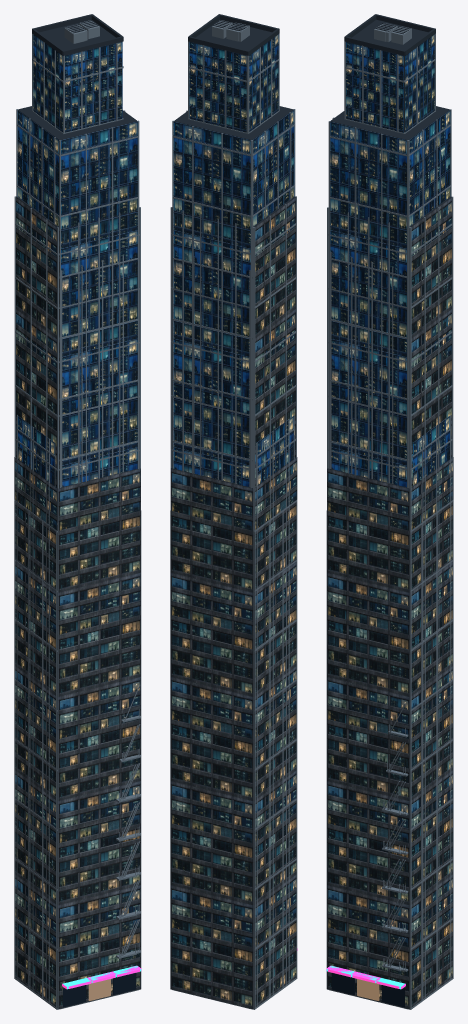
The model's file is architecture-kit.glb.
3 views of the same model, side by side, from view 1: azimuth 30°, elevation 25°; view 2: azimuth 150°, elevation 25°; view 3: azimuth 330°, elevation 25° (orthographic).
Parts seen in each view (by area): view 1: Facade_atlas_2 (×2), Facade_atlas_0 (×2), Brushed aluminum (×8), Roof membrane and mechanical equipment, Unlit recessed glazing, Warm occupied interiors; view 2: Facade_atlas_2 (×2), Facade_atlas_0 (×2), Brushed aluminum (×5), Roof membrane and mechanical equipment; view 3: Facade_atlas_2 (×2), Facade_atlas_0 (×2), Brushed aluminum (×8), Roof membrane and mechanical equipment, Unlit recessed glazing, Warm occupied interiors.
Boxes of the visible parts, x1=… form: Facade_atlas_2 (×2): x1=14, y1=197, x2=140, y2=1009; Facade_atlas_0 (×2): x1=17, y1=34, x2=137, y2=486; Brushed aluminum (×8): x1=14, y1=20, x2=141, y2=1009; Roof membrane and mechanical equipment: x1=18, y1=14, x2=137, y2=140; Unlit recessed glazing: x1=65, y1=973, x2=134, y2=1006; Warm occupied interiors: x1=89, y1=979, x2=110, y2=1000; Facade_atlas_2 (×2): x1=170, y1=197, x2=297, y2=1008; Facade_atlas_0 (×2): x1=173, y1=34, x2=294, y2=486; Brushed aluminum (×5): x1=170, y1=20, x2=297, y2=1009; Roof membrane and mechanical equipment: x1=174, y1=14, x2=293, y2=140; Facade_atlas_2 (×2): x1=327, y1=197, x2=453, y2=1009; Facade_atlas_0 (×2): x1=330, y1=34, x2=450, y2=487; Brushed aluminum (×8): x1=326, y1=23, x2=453, y2=1009; Roof membrane and mechanical equipment: x1=330, y1=14, x2=449, y2=140; Unlit recessed glazing: x1=333, y1=973, x2=402, y2=1006; Warm occupied interiors: x1=357, y1=979, x2=378, y2=1000.
Bounding box in the file's own units: 2.04 × 22.05 × 2.02.
12 materials, 4 textured.
